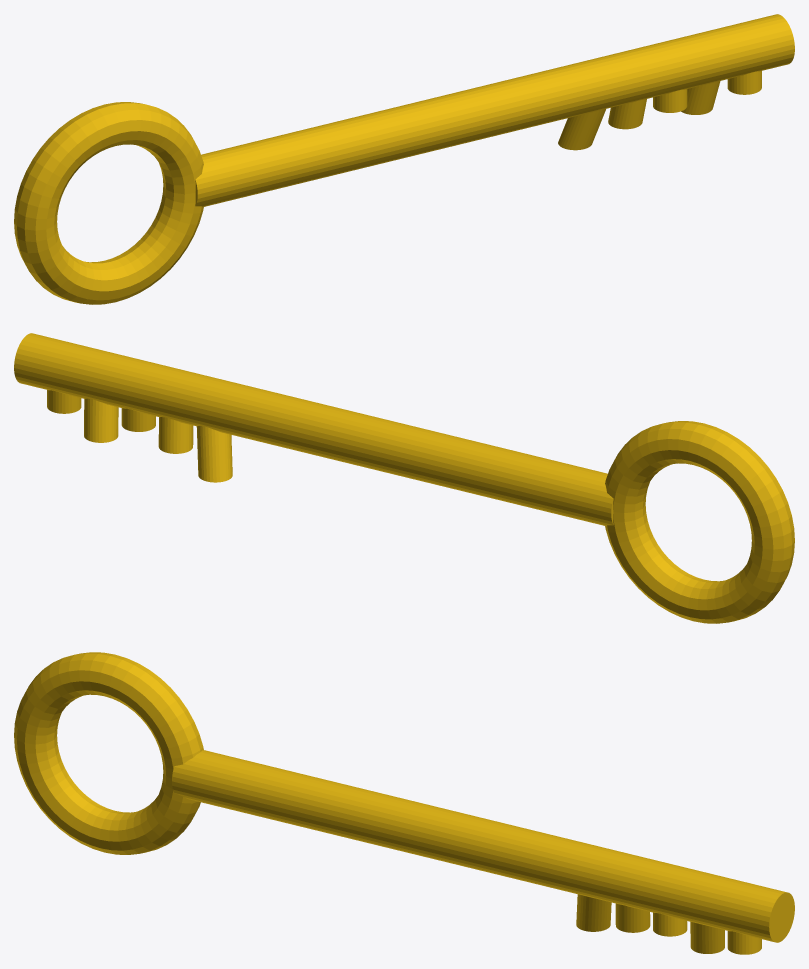
Rendered from Key.fbx.
The picture shows the model from 3 angles, top to bottom: view 1: azimuth 30°, elevation 25°; view 2: azimuth 150°, elevation 25°; view 3: azimuth 330°, elevation 25°; orthographic projection.
Parts seen in each view (by area): view 1: Cylinder; view 2: Cylinder; view 3: Cylinder.
Boxes of the visible parts, x1,y1,x2,y2 form: Cylinder: (14,14,794,304); Cylinder: (14,333,794,623); Cylinder: (14,652,794,954).
Bounding box in the file's own units: 1025 × 250 × 71.08.
